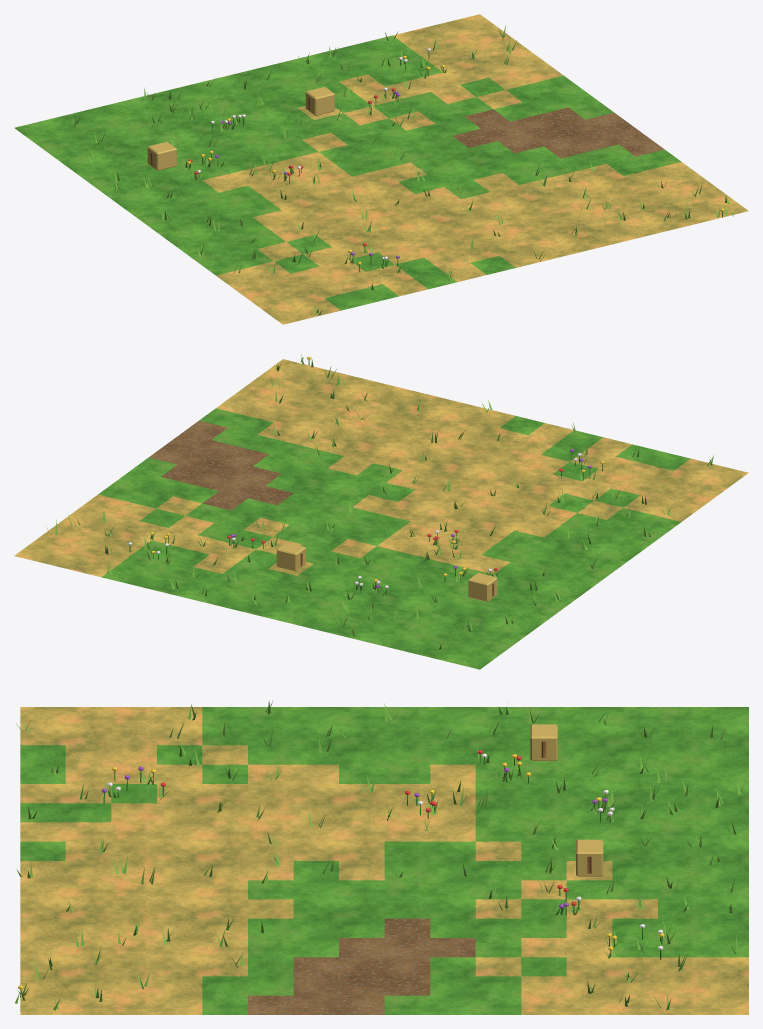
The model's file is chunk_0_12.glb.
3 views of the same model, one above another, from view 1: azimuth 30°, elevation 25°; view 2: azimuth 150°, elevation 25°; view 3: azimuth 270°, elevation 25° (orthographic). The views are drawn at different scales.
Parts seen in each view (by area): view 1: chunk_0_12; view 2: chunk_0_12; view 3: chunk_0_12.
Part boxes in pixels (bbox=[...]): chunk_0_12: bbox=[14, 14, 748, 324]; chunk_0_12: bbox=[14, 354, 748, 669]; chunk_0_12: bbox=[15, 701, 748, 1014].
Size of the model in its own units: 16 by 0.6 by 16.14.
Materials: 11 (5 with a texture image).
